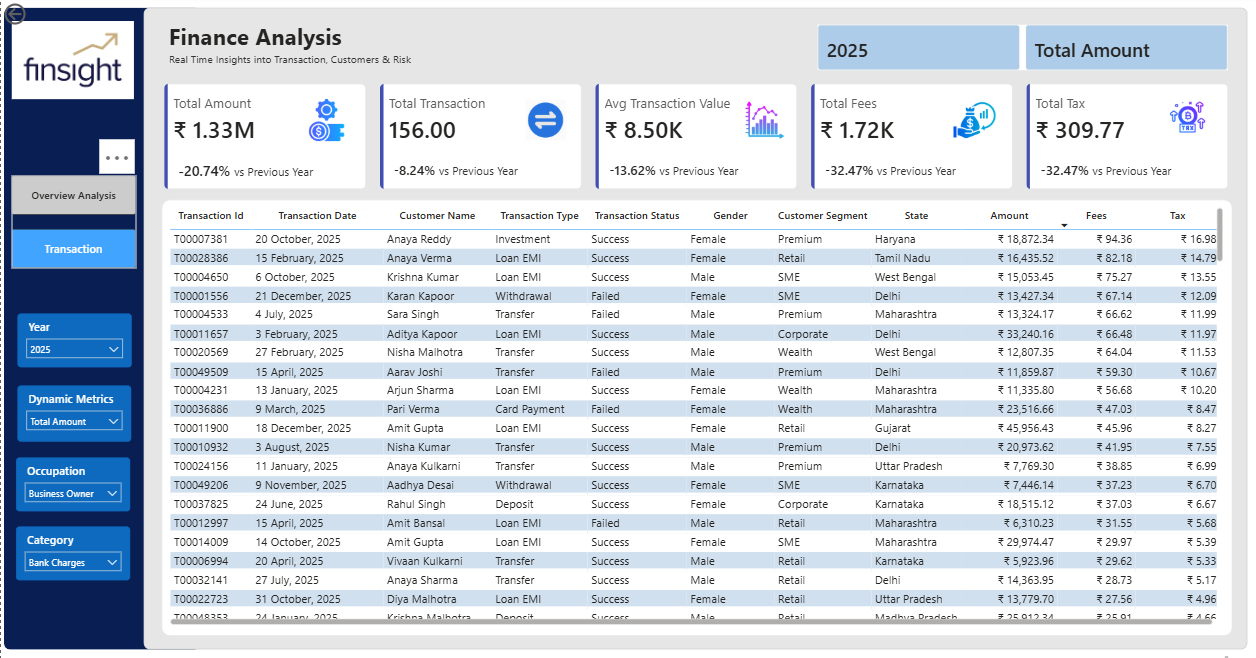

The dashboard page shown, as its layout file describes it:
{"tool":"powerbi","page":{"name":"Transaction","canvas":[1800,950],"ordinal":1},"visuals":[{"type":"shape","box":[4.4,11.1,279.8,914.8],"z":0},{"type":"shape","box":[203,10.7,1572.5,914.4],"z":1000},{"type":"image","box":[0,29.9,204.6,111.6],"z":2000},{"type":"cardVisual","fields":{"Data":["finance_transactions.Dashboard Title"]},"box":[222.2,10.7,423,102.6],"z":3000},{"type":"cardVisual","fields":{"Data":["finance_transactions.Total Amount","finance_transactions.Total Transaction","finance_transactions.AV Transaction Value","finance_transactions.Total Fees","finance_transactions.Total Tax"]},"box":[226.5,113.2,1527.6,162.4],"z":5000},{"type":"image","box":[433.7,141,60,60],"z":6000},{"type":"image","box":[745.6,141,60,60],"z":7000},{"type":"image","box":[1356.7,141,60,60],"z":8000},{"type":"image","box":[1057.6,141,60,60],"z":9000},{"type":"image","box":[1660,136.7,60,60],"z":10000},{"type":"shape","box":[228.6,284.2,1525.4,621.7],"z":12000},{"type":"cardVisual","fields":{"Data":["finance_transactions.Selected Year","finance_transactions.Selected Dynamic Measure"]},"box":[1158,29.9,595.1,75.5],"z":14000},{"type":"tableEx","fields":{"Values":["finance_transactions.transaction_id","finance_transactions.transaction_date","customers.customer_name","finance_transactions.transaction_type","finance_transactions.transaction_status","customers.gender","customers.customer_segment","customers.state","finance_transactions.Total Amount","finance_transactions.Total Fees","finance_transactions.Total Tax"]},"box":[235,290.6,1510.5,604.6],"z":14001},{"type":"actionButton","box":[0,0,100,40],"z":14002},{"type":"slicer","fields":{"Values":["Dynamic Metrics.Dynamic Metrics"]},"box":[22.8,550,162.1,79.9],"z":14003},{"type":"slicer","fields":{"Values":["customers.occupation"]},"box":[20.7,652.5,162.4,76.9],"z":14004},{"type":"slicer","fields":{"Values":["finance_transactions.merchant_category"]},"box":[20.7,750.8,162.4,76.9],"z":14005},{"type":"slicer","fields":{"Values":["Calender Table.Year"]},"box":[22.8,446.5,162.4,76.9],"z":14006},{"type":"pageNavigator","box":[15,250,177.3,132.5],"z":14007}]}

Visuals, with their boxes on the page's 1800x950 design canvas (x1, y1, x2, y2). These are canvas units, not pixel positions in the 1256x658 screenshot, which may show the page scaled, cropped or inside an application window:
shape: bbox(4, 11, 284, 926)
shape: bbox(203, 11, 1776, 925)
image: bbox(0, 30, 205, 142)
cardVisual - finance_transactions.Dashboard Title: bbox(222, 11, 645, 113)
cardVisual - finance_transactions.Total Amount x finance_transactions.Total Transaction: bbox(226, 113, 1754, 276)
image: bbox(434, 141, 494, 201)
image: bbox(746, 141, 806, 201)
image: bbox(1357, 141, 1417, 201)
image: bbox(1058, 141, 1118, 201)
image: bbox(1660, 137, 1720, 197)
shape: bbox(229, 284, 1754, 906)
cardVisual - finance_transactions.Selected Year x finance_transactions.Selected Dynamic Measure: bbox(1158, 30, 1753, 105)
tableEx - finance_transactions.transaction_id x finance_transactions.transaction_date: bbox(235, 291, 1746, 895)
actionButton: bbox(0, 0, 100, 40)
slicer - Dynamic Metrics.Dynamic Metrics: bbox(23, 550, 185, 630)
slicer - customers.occupation: bbox(21, 652, 183, 729)
slicer - finance_transactions.merchant_category: bbox(21, 751, 183, 828)
slicer - Calender Table.Year: bbox(23, 446, 185, 523)
pageNavigator: bbox(15, 250, 192, 382)
